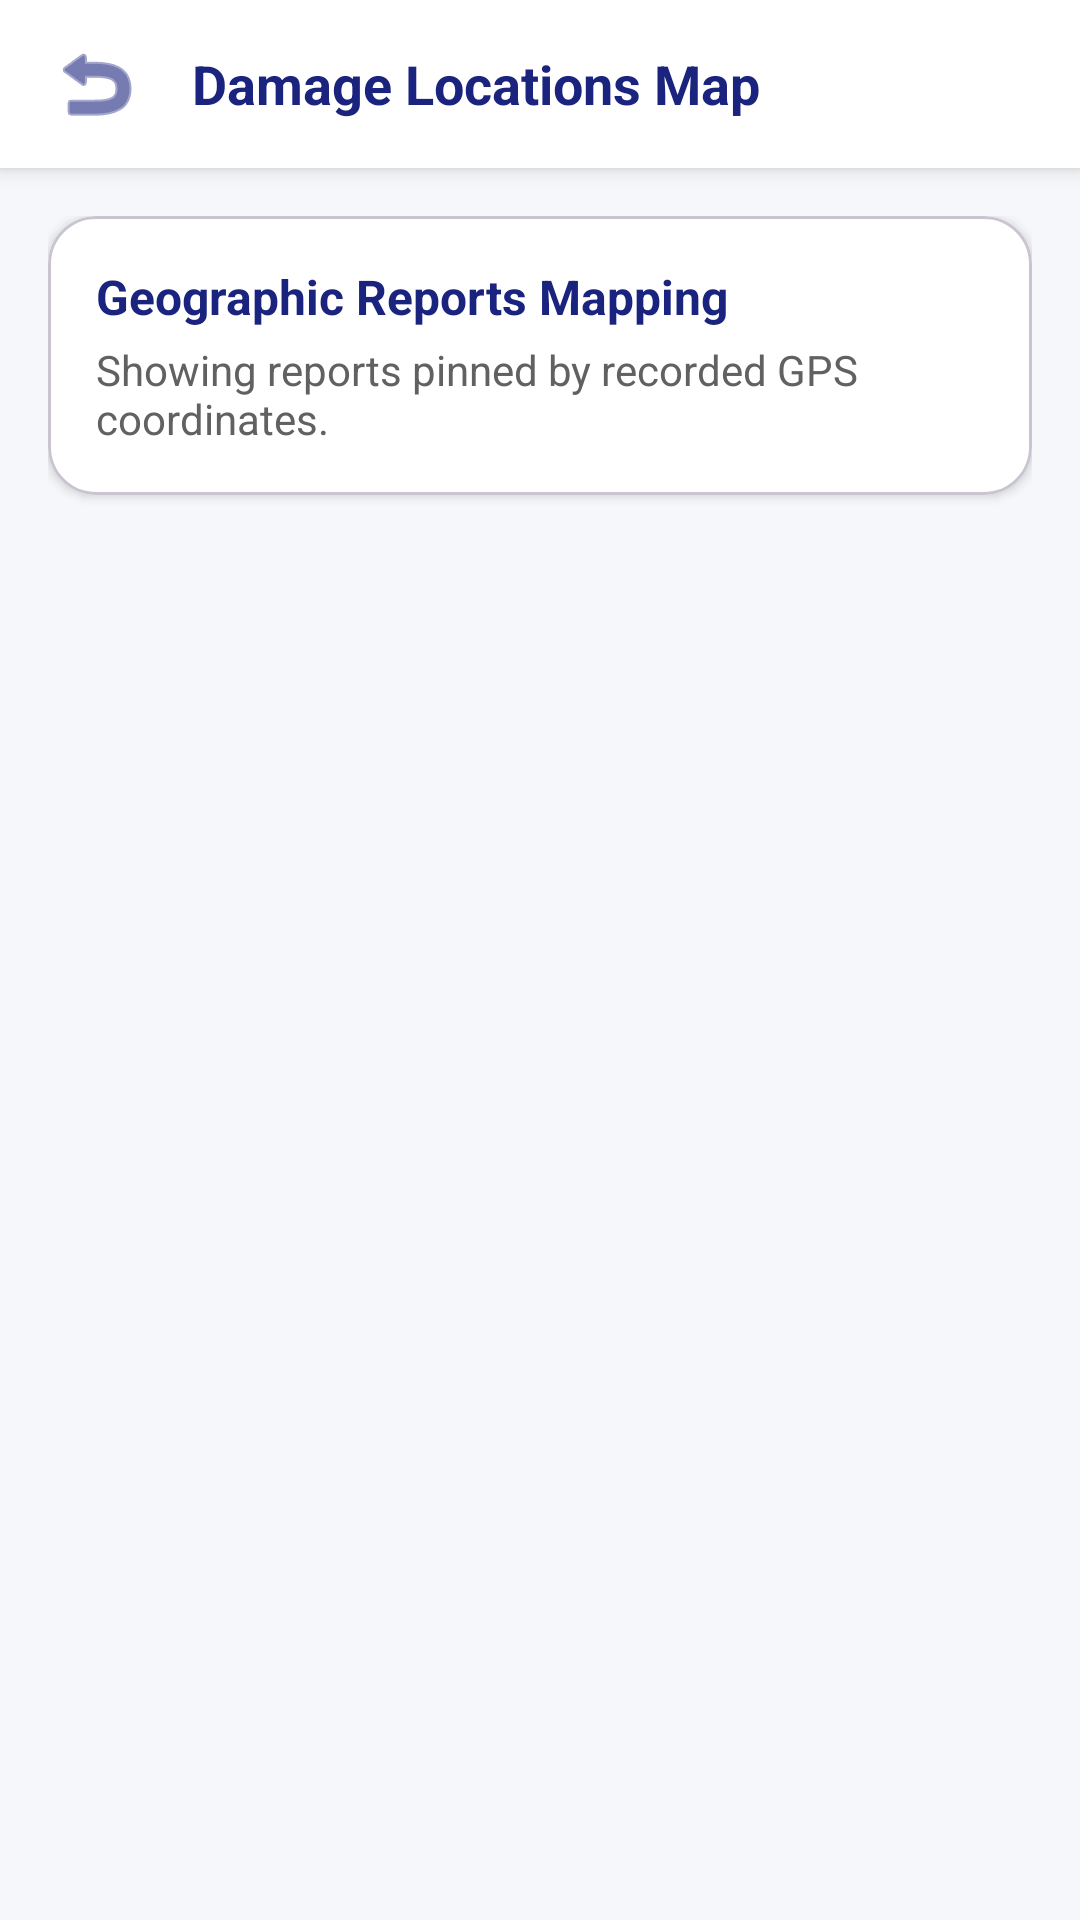

Where icons sit on this 1080 x 1920 app screen, as bbox=[x1, y1, x2, y2]:
Back: bbox=[63, 53, 132, 116]
